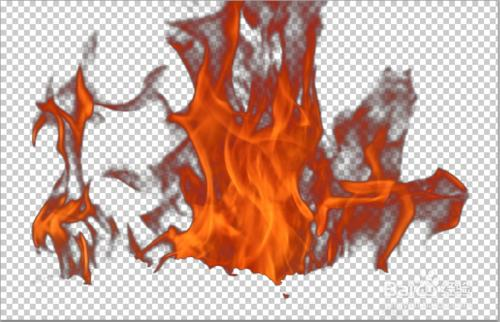fire: (182, 28, 313, 269)
